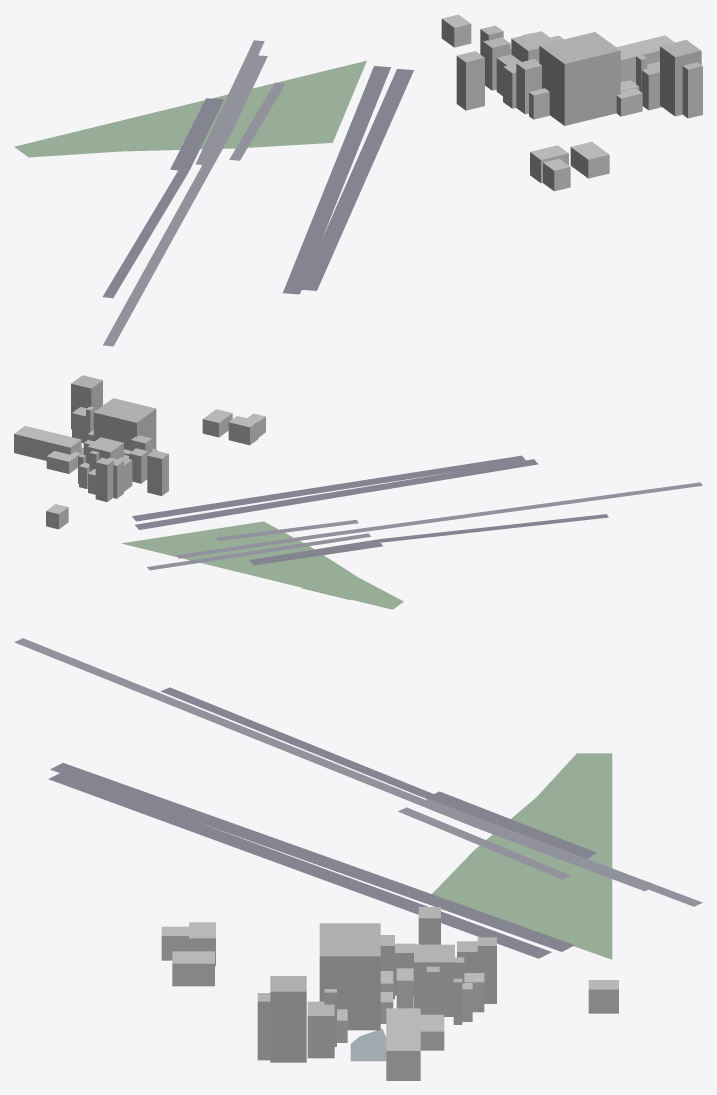
The model's file is 131_85_mid.glb.
3 renders of one model, top to bottom at view 1: azimuth 30°, elevation 25°; view 2: azimuth 150°, elevation 25°; view 3: azimuth 270°, elevation 25°, orthographic. The views are drawn at different scales.
Size of the model in its own units: 677 by 60.57 by 463.
